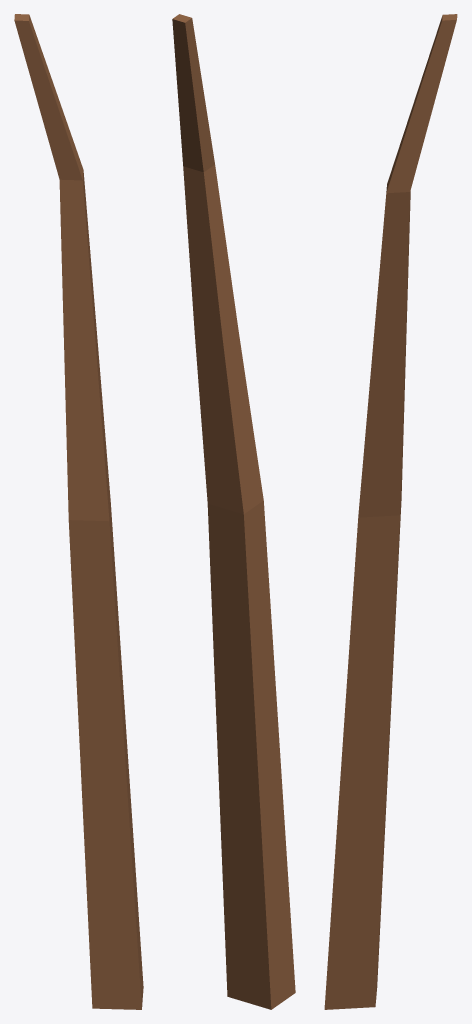
Rendered from tree-winter-trunk-020.glb.
3 views of the same model, side by side, from view 1: azimuth 90°, elevation 25°; view 2: azimuth 150°, elevation 25°; view 3: azimuth 270°, elevation 25° (orthographic). The views are drawn at different scales.
Parts seen in each view (by area): view 1: Plane.067_164; view 2: Plane.067_164; view 3: Plane.067_164.
Part boxes in pixels (x1,y1,x2,y2): Plane.067_164: (14, 14, 143, 1009); Plane.067_164: (172, 14, 295, 1009); Plane.067_164: (324, 14, 457, 1009).
Size of the model in its own units: 0.1292 by 1.72 by 0.2082.
